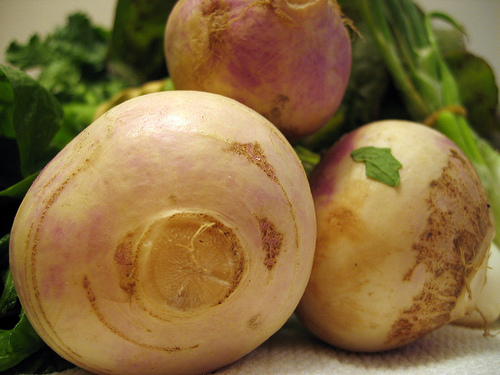turnip: (6, 87, 319, 374), (307, 121, 494, 351), (164, 0, 352, 142)
